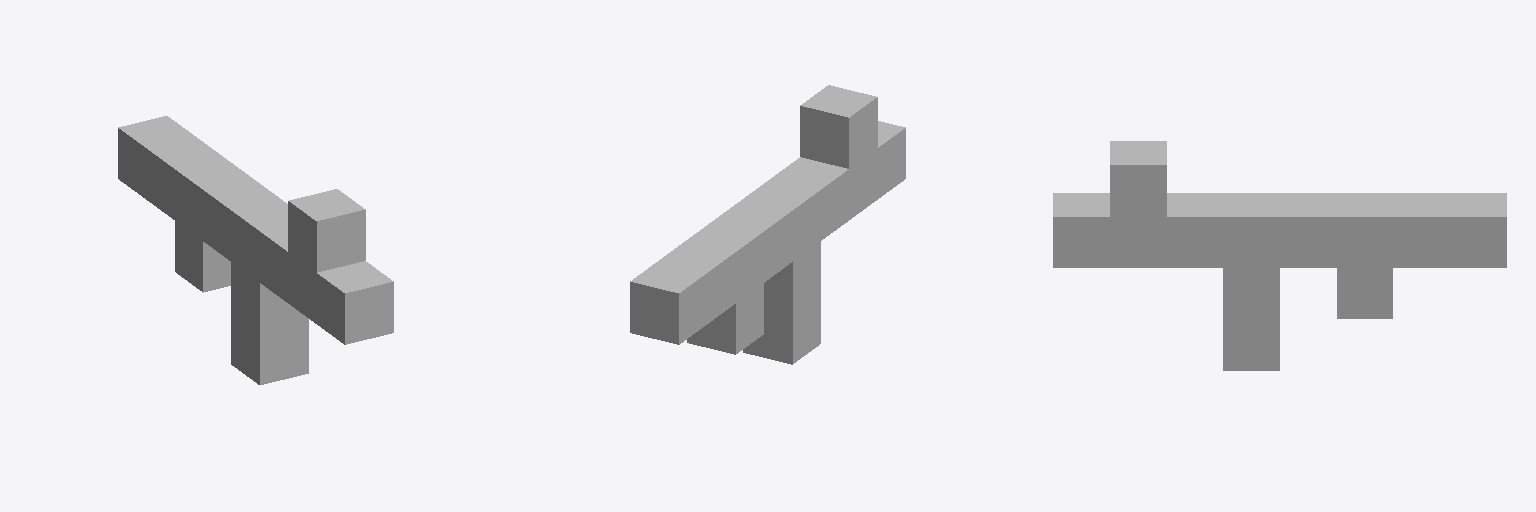
Rendered from Para_BadGuy_Gun.obj.
The picture shows the model from 3 angles: view 1: azimuth 30°, elevation 25°; view 2: azimuth 150°, elevation 25°; view 3: azimuth 270°, elevation 25°; orthographic projection.
Parts seen in each view (by area): view 1: Para_BadGuy_Gun; view 2: Para_BadGuy_Gun; view 3: Para_BadGuy_Gun.
Part boxes in pixels (left/top/right/bottom): Para_BadGuy_Gun: left=118, top=116, right=393, bottom=384; Para_BadGuy_Gun: left=630, top=85, right=905, bottom=364; Para_BadGuy_Gun: left=1053, top=141, right=1506, bottom=370.
Bounding box in the file's own units: 1 × 4 × 8.